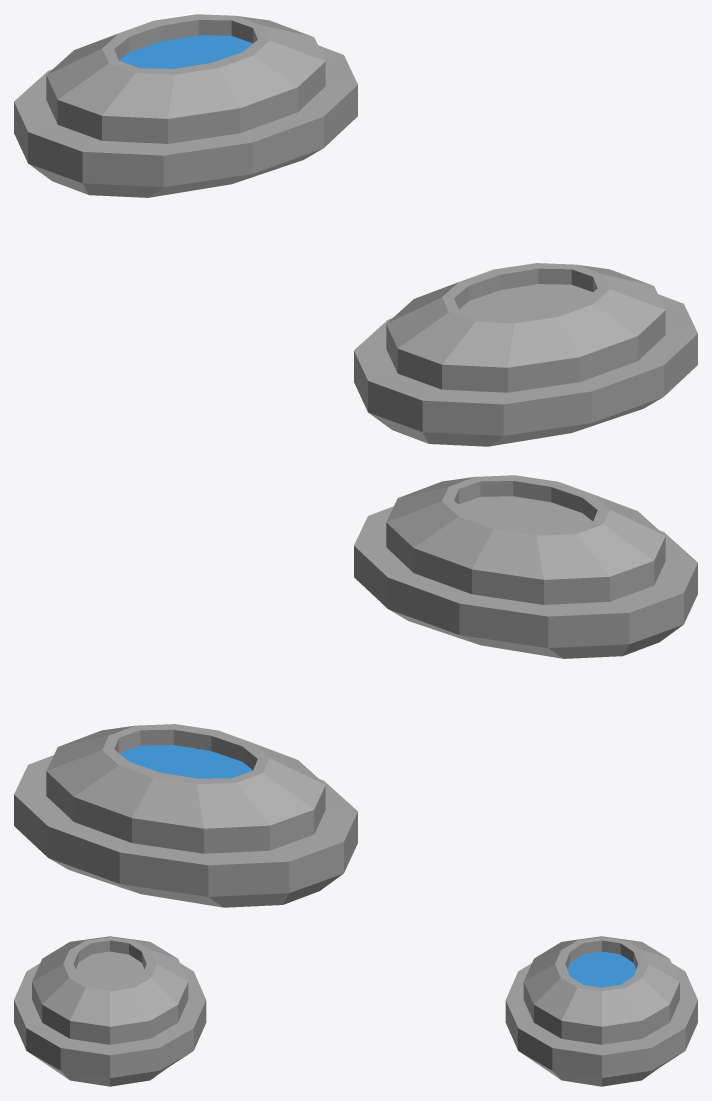
Rendered from PowerCoresFix.fbx.
3 views of the same model, one above another, from view 1: azimuth 30°, elevation 25°; view 2: azimuth 150°, elevation 25°; view 3: azimuth 270°, elevation 25° (orthographic). The views are drawn at different scales.
Visible parts, largest first — view 1: PowerCore_Full, PowerCore_Empty; view 2: PowerCore_Empty, PowerCore_Full; view 3: PowerCore_Full, PowerCore_Empty.
Boxes of the visible parts, left/top/right/bottom form: PowerCore_Full: left=14, top=14, right=357, bottom=197; PowerCore_Empty: left=354, top=263, right=697, bottom=446; PowerCore_Empty: left=354, top=475, right=697, bottom=658; PowerCore_Full: left=14, top=724, right=357, bottom=907; PowerCore_Full: left=505, top=936, right=697, bottom=1086; PowerCore_Empty: left=14, top=936, right=206, bottom=1086.
Bounding box in the file's own units: 87.96 × 228 × 30.84.
